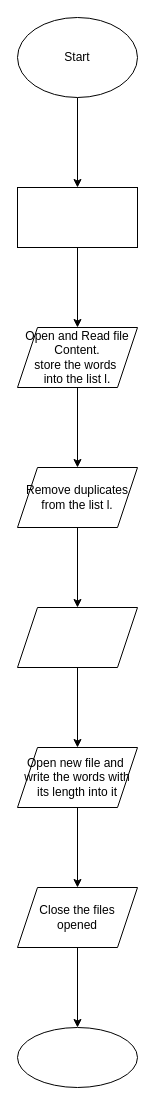
Some shapes in this 155 by 1105 pixel diagram are drawn without their labels. Here are the shapes that lost their labels. From the top down, the centre of each, then its label:
At (77,217): "Initialize filename and list l".
At (77,637): "sort the list based on the word length.".
At (77,1057): "End".
